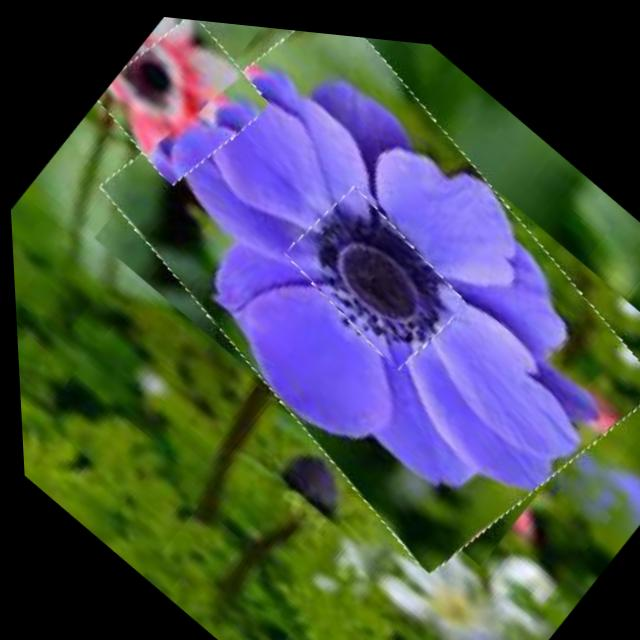Flower: (58, 5, 640, 598), (273, 170, 474, 372), (84, 7, 278, 199)
